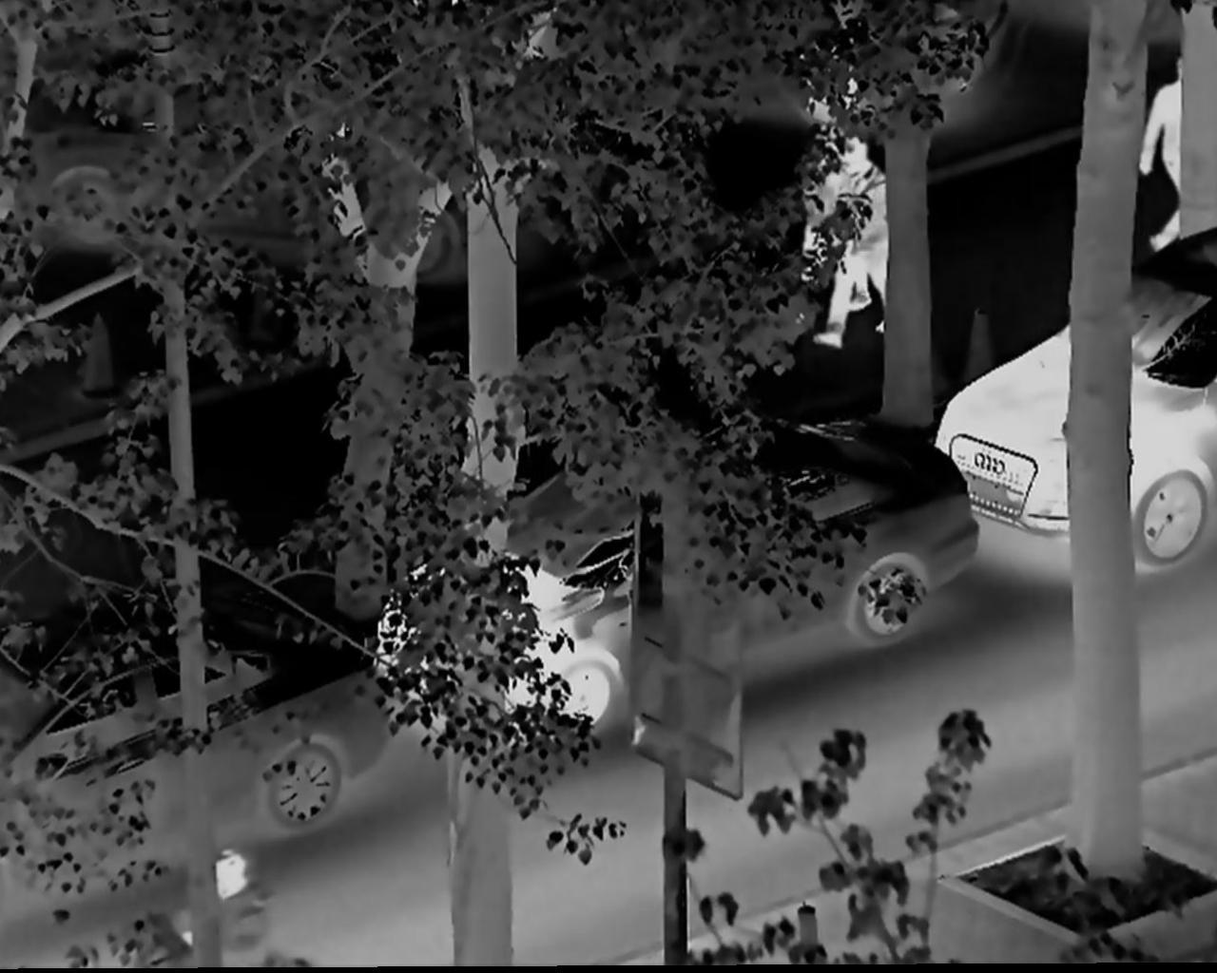person: (817, 124, 900, 357), (1142, 37, 1188, 251)
